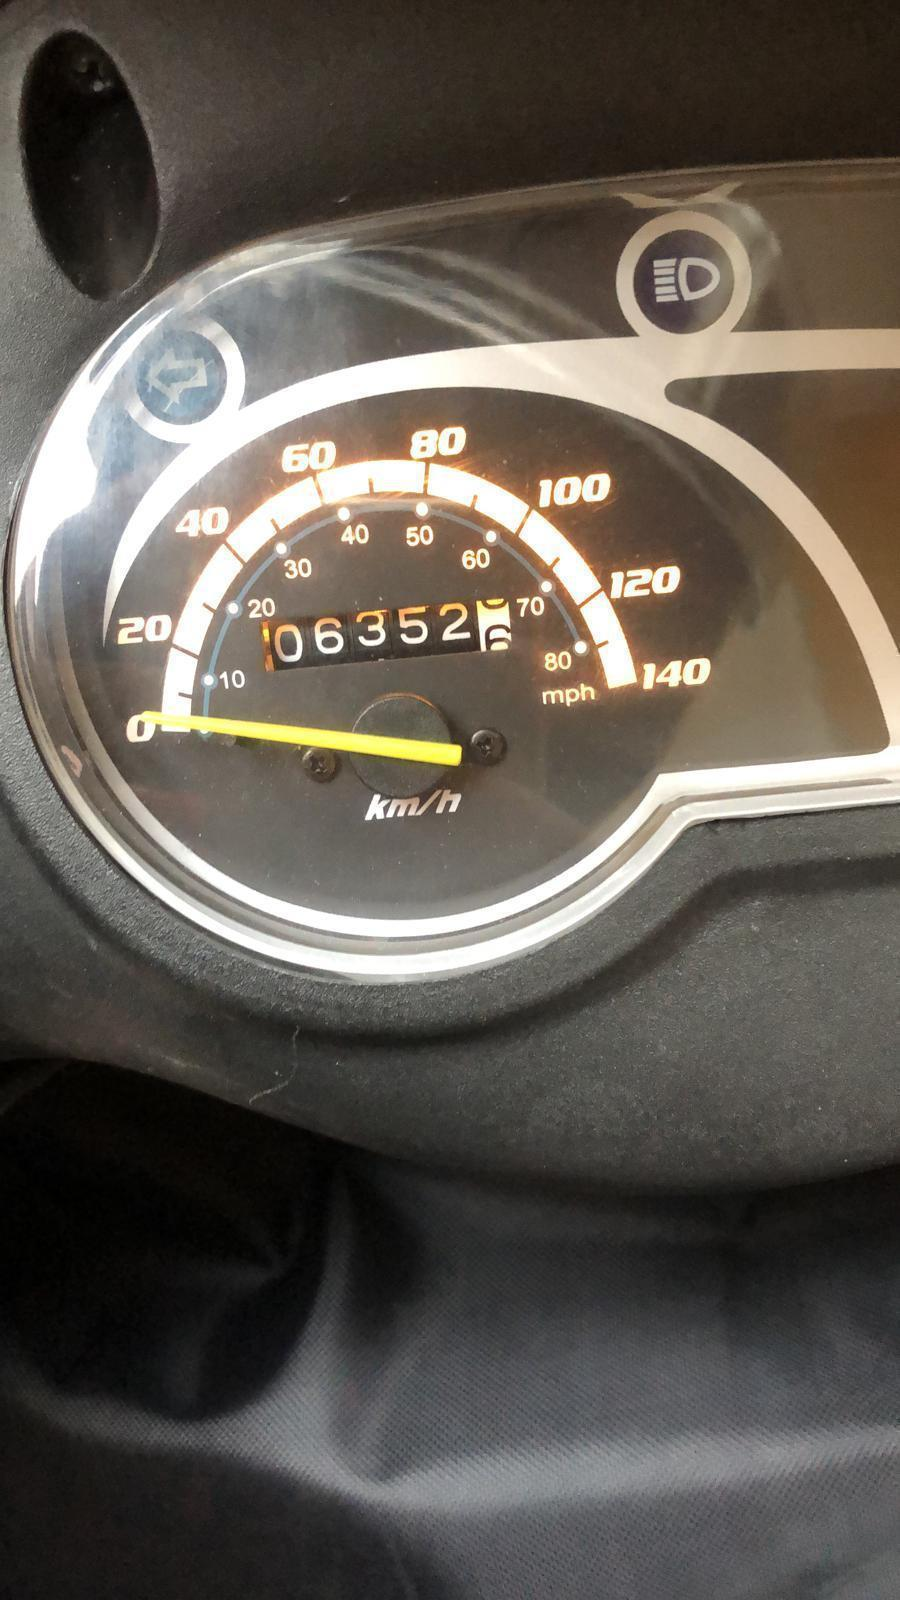0: (271, 622, 304, 664), (262, 596, 275, 616)
2: (437, 601, 473, 642), (247, 597, 262, 619)
3: (353, 610, 387, 649)
5: (396, 603, 430, 646)
6: (311, 615, 344, 656), (482, 623, 512, 652)
odometer: (247, 591, 523, 678)
